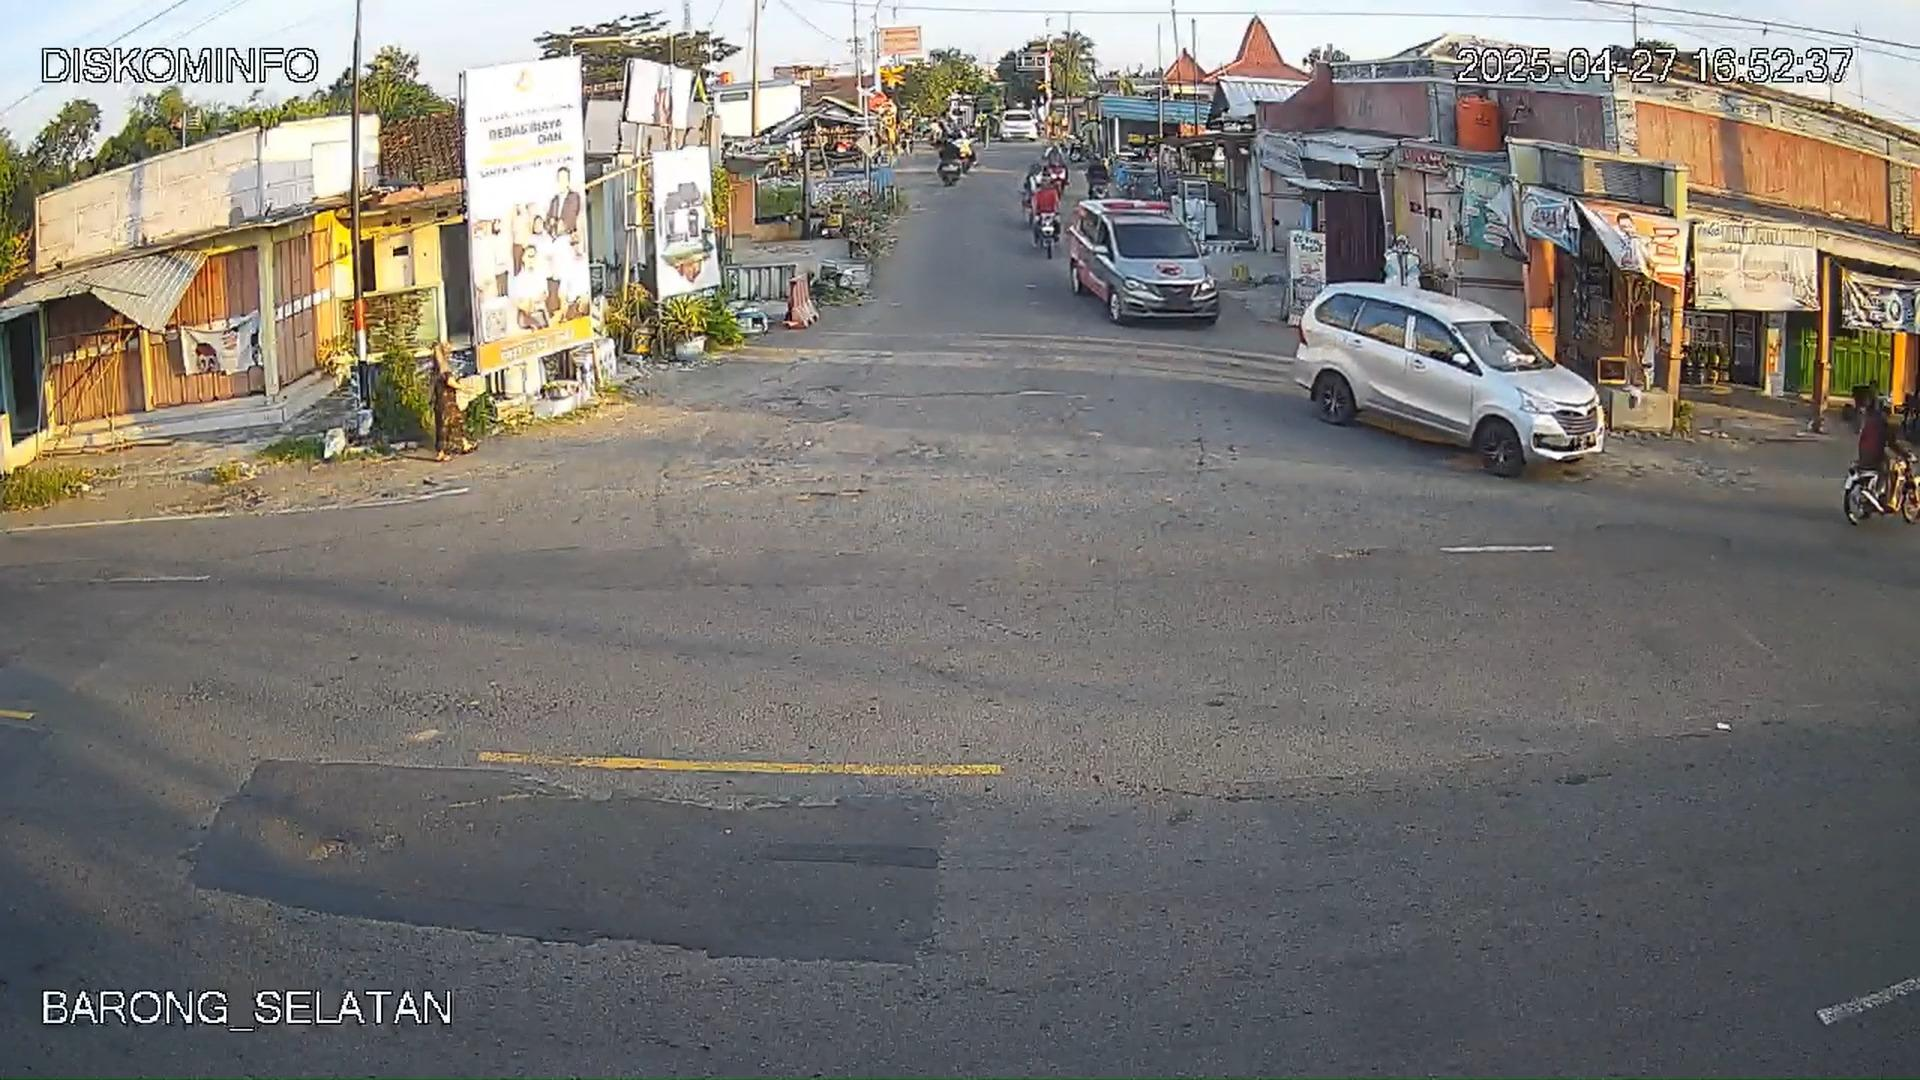Motor: (1841, 401, 1915, 527)
mobil: (1282, 276, 1590, 475)
